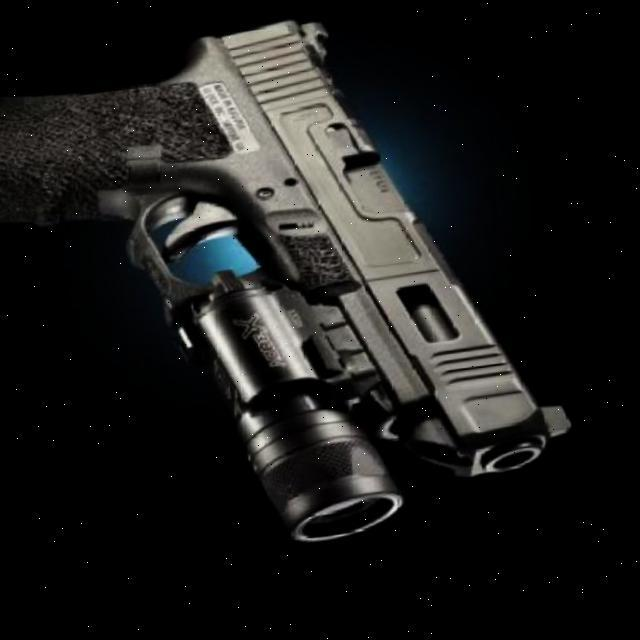gun: (0, 0, 590, 581)
